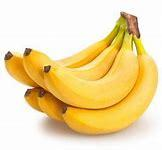banana: (7, 22, 162, 144), (40, 55, 150, 110)
